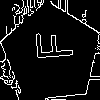F: (26, 28, 74, 63)
